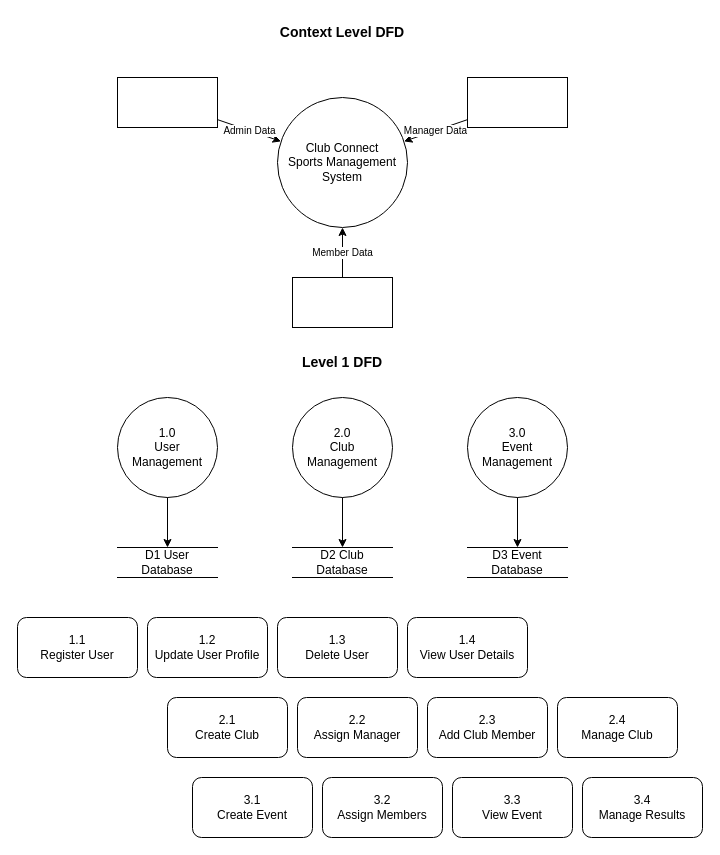
Image size: 720x855. Some labels were removed from this diagram. The shapes that lost their labels are listed below. From the top down, each one's centre as x and y in pixels, then its label:
At point 167,102: "Admin".
At point 517,102: "Club Manager".
At point 342,302: "Club Member".
